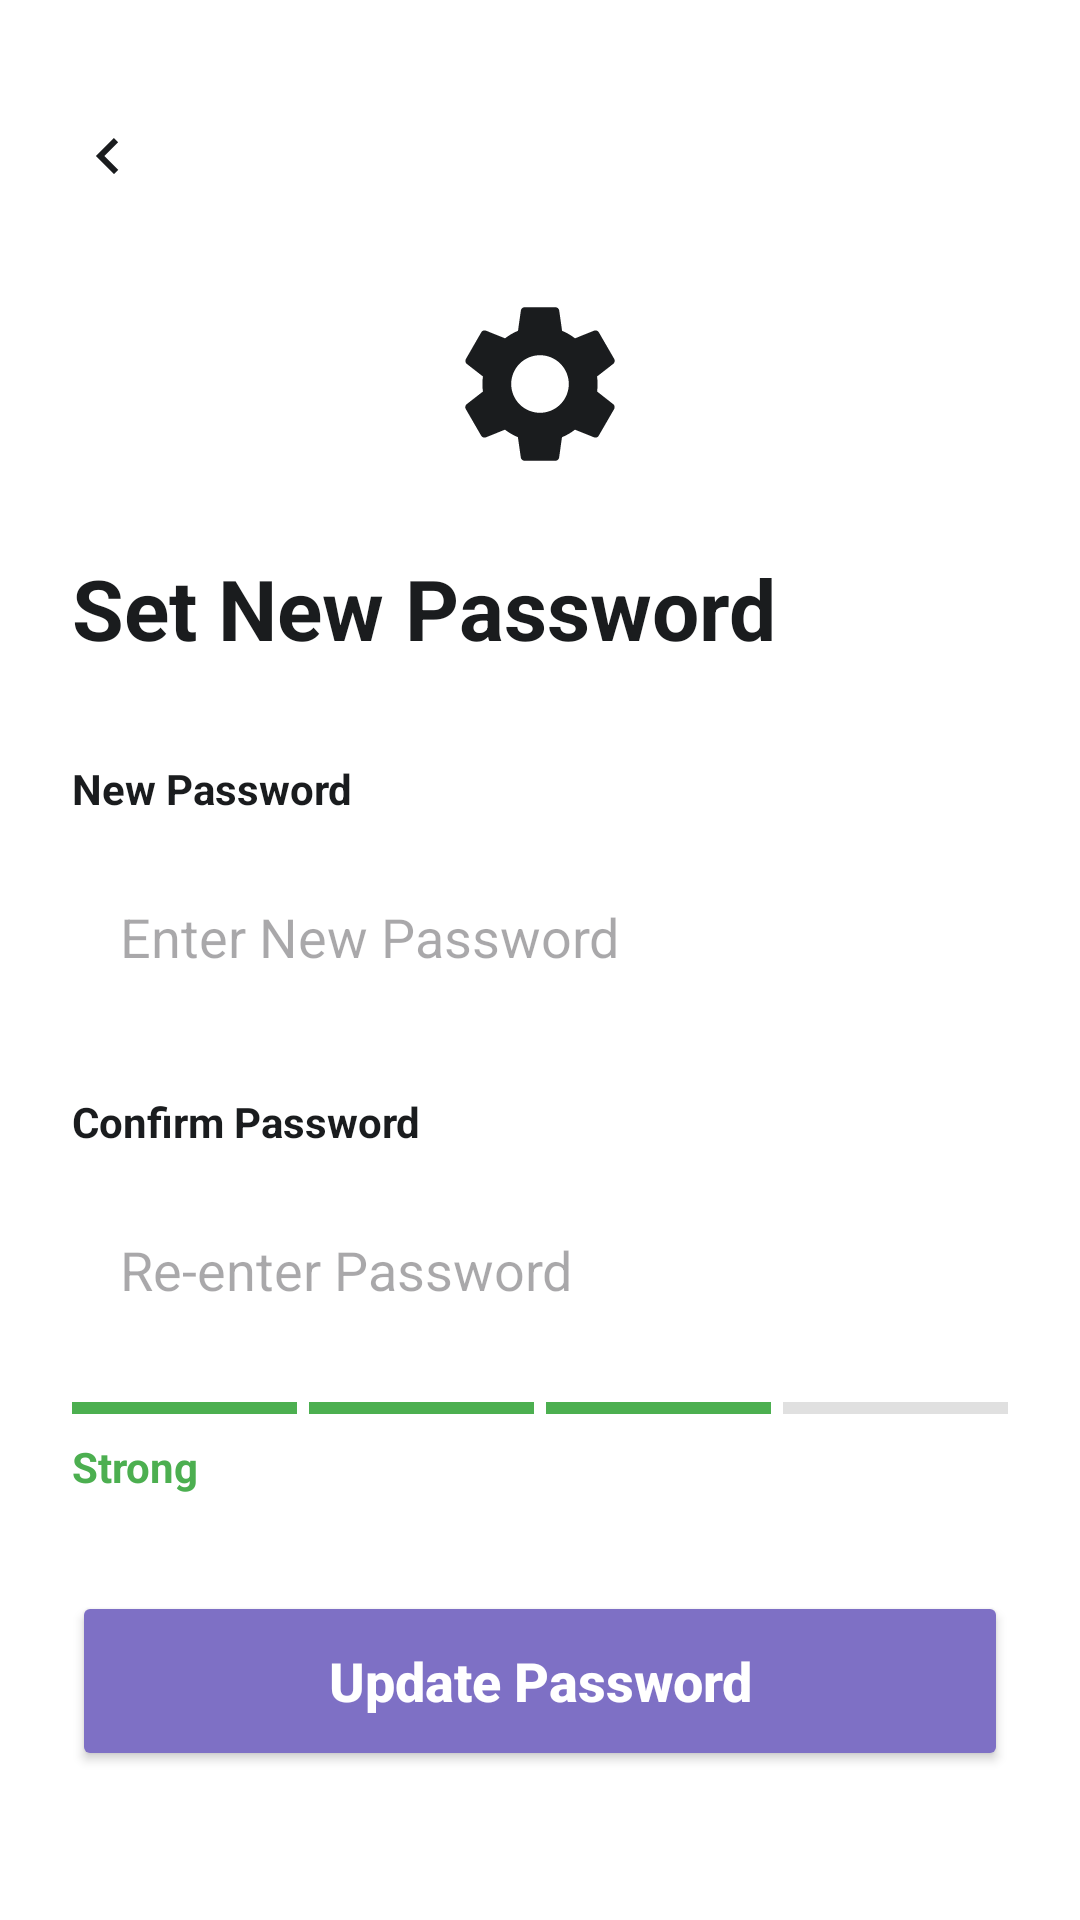

Where to tap for icons on this 1080 x 1920 app screen, as [x,y]:
settings: [540,384]
